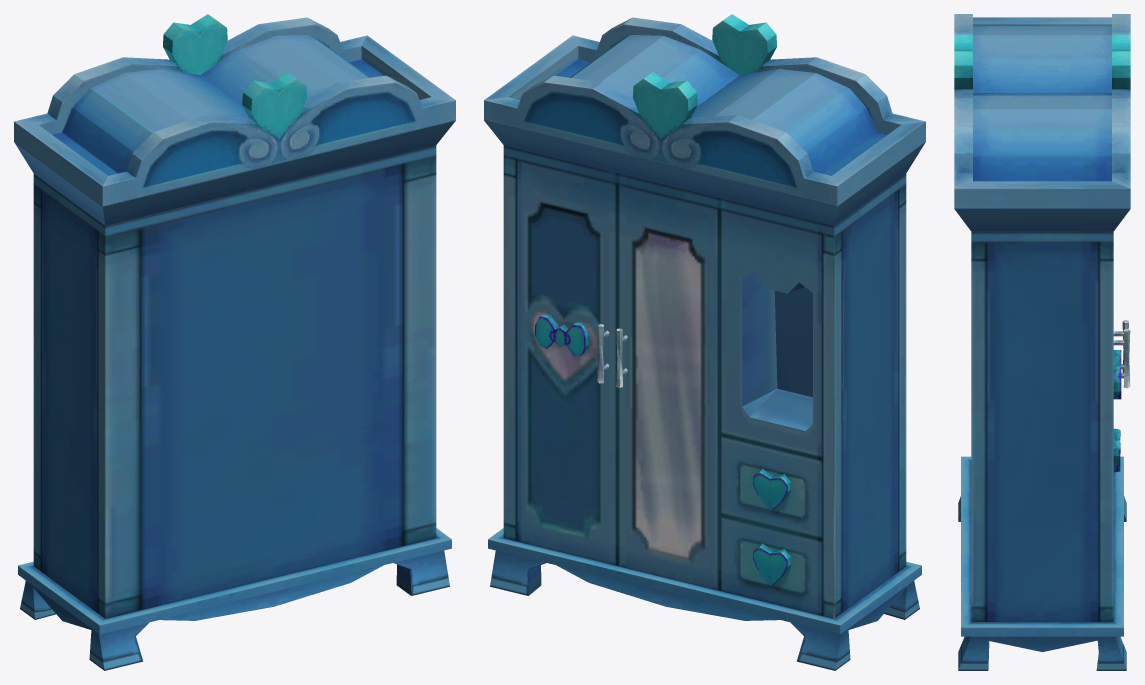
The model's file is furni_0200023_03.FBX.
3 views of the same model, side by side, from view 1: azimuth 30°, elevation 25°; view 2: azimuth 150°, elevation 25°; view 3: azimuth 270°, elevation 25° (orthographic).
Visible parts, largest first — view 1: furni_0200023_03; view 2: furni_0200023_03; view 3: furni_0200023_03.
Part boxes in pixels (x1,y1,x2,y2): furni_0200023_03: (14, 14, 455, 670); furni_0200023_03: (484, 14, 925, 670); furni_0200023_03: (954, 14, 1130, 670).
Size of the model in its own units: 171 by 253 by 74.27.
